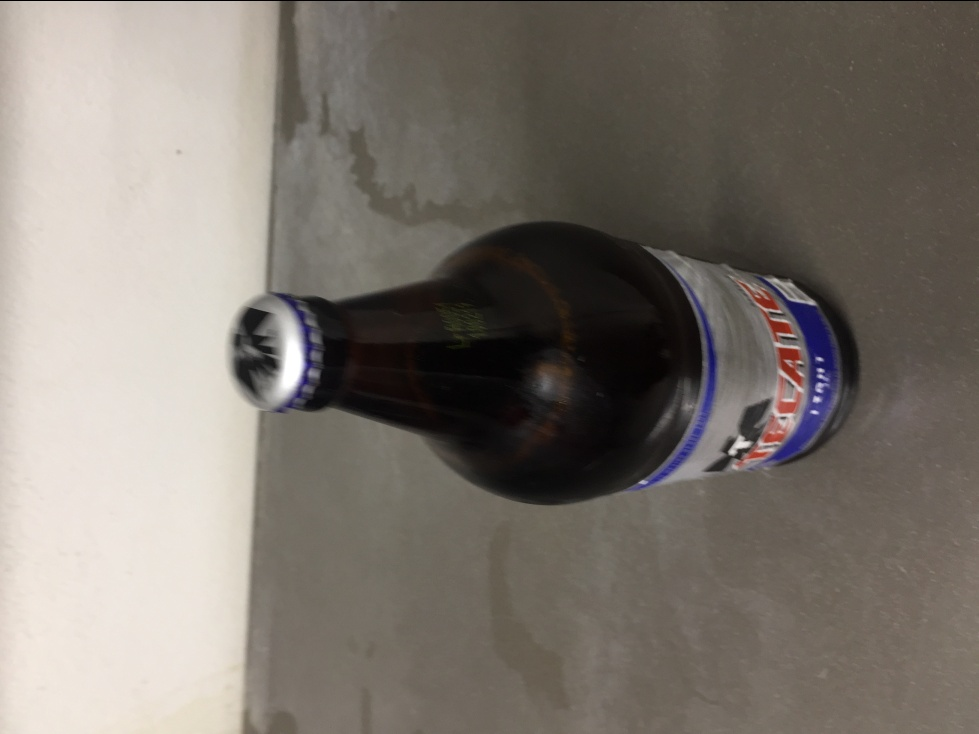tecateC: (225, 219, 860, 509)
